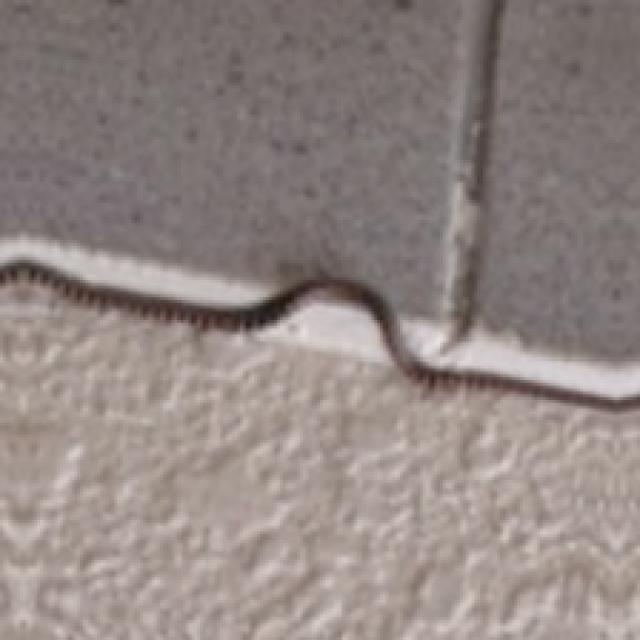paradise tree snake: (0, 0, 637, 360), (0, 234, 637, 409)
